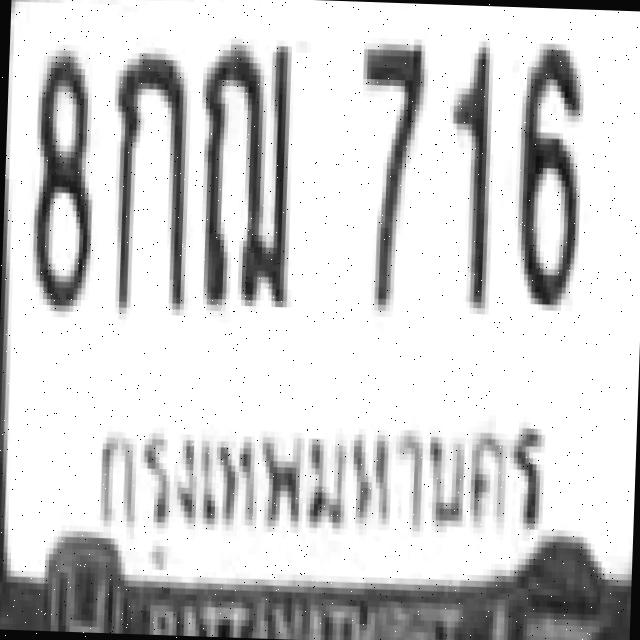1: (442, 40, 493, 308)
10GorGai: (107, 46, 189, 309)
21ChorChoe: (192, 34, 294, 304)
6: (512, 37, 582, 305)
7: (349, 34, 423, 308)
8: (27, 44, 93, 306)
Bangkok: (84, 390, 554, 564)
